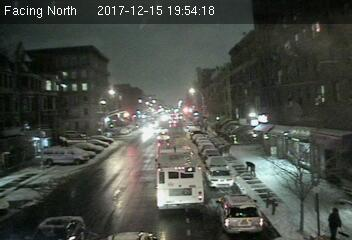bus: (155, 143, 205, 212)
car: (218, 194, 267, 236), (205, 167, 235, 188), (203, 157, 230, 171), (156, 131, 171, 142)
pedestrian: (245, 162, 259, 181)
